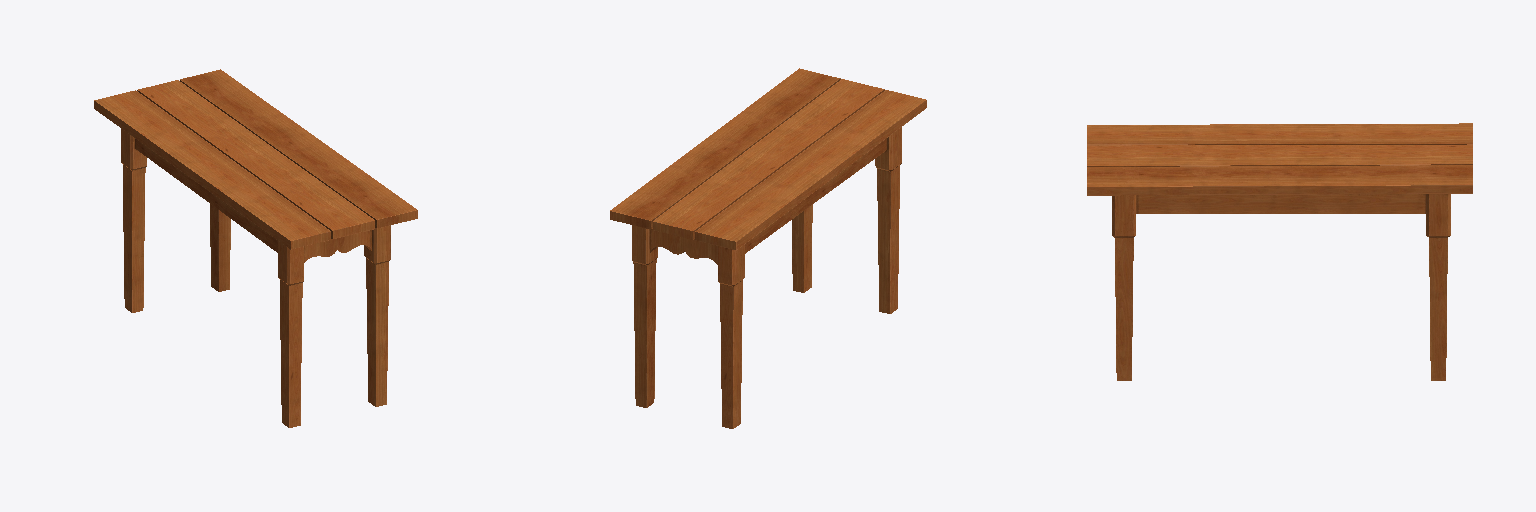
3 views of the same model, side by side, from view 1: azimuth 30°, elevation 25°; view 2: azimuth 150°, elevation 25°; view 3: azimuth 270°, elevation 25° (orthographic).
Parts seen in each view (by area): view 1: Object_TexMap3_0; view 2: Object_TexMap3_0; view 3: Object_TexMap3_0.
Boxes of the visible parts, box(x1,y1,x2,y2) form: Object_TexMap3_0: box(94, 69, 417, 427); Object_TexMap3_0: box(610, 68, 926, 428); Object_TexMap3_0: box(1087, 123, 1472, 380).
Bounding box in the file's own units: 0.9731 × 1.44 × 2.5.
Materials: 1 (1 with a texture image).